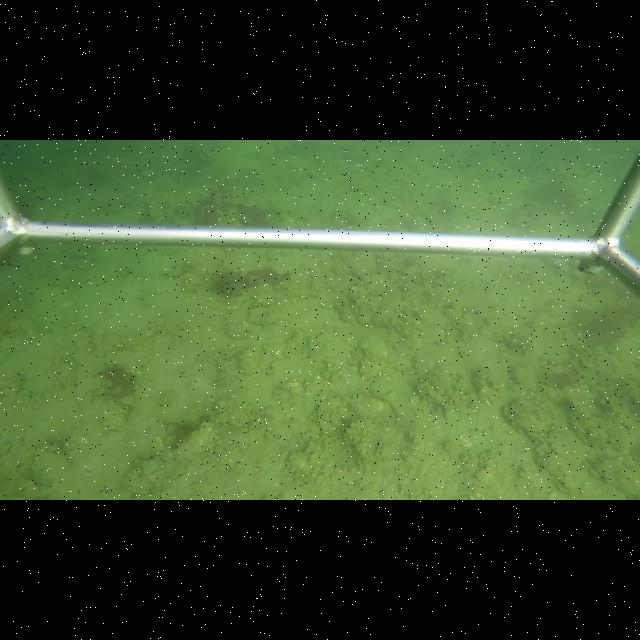Oyster-Closed: (500, 397, 552, 435), (347, 393, 401, 428), (416, 382, 449, 409)
